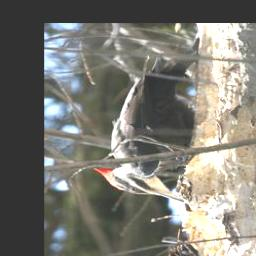Woodpecker: (92, 32, 197, 203)
